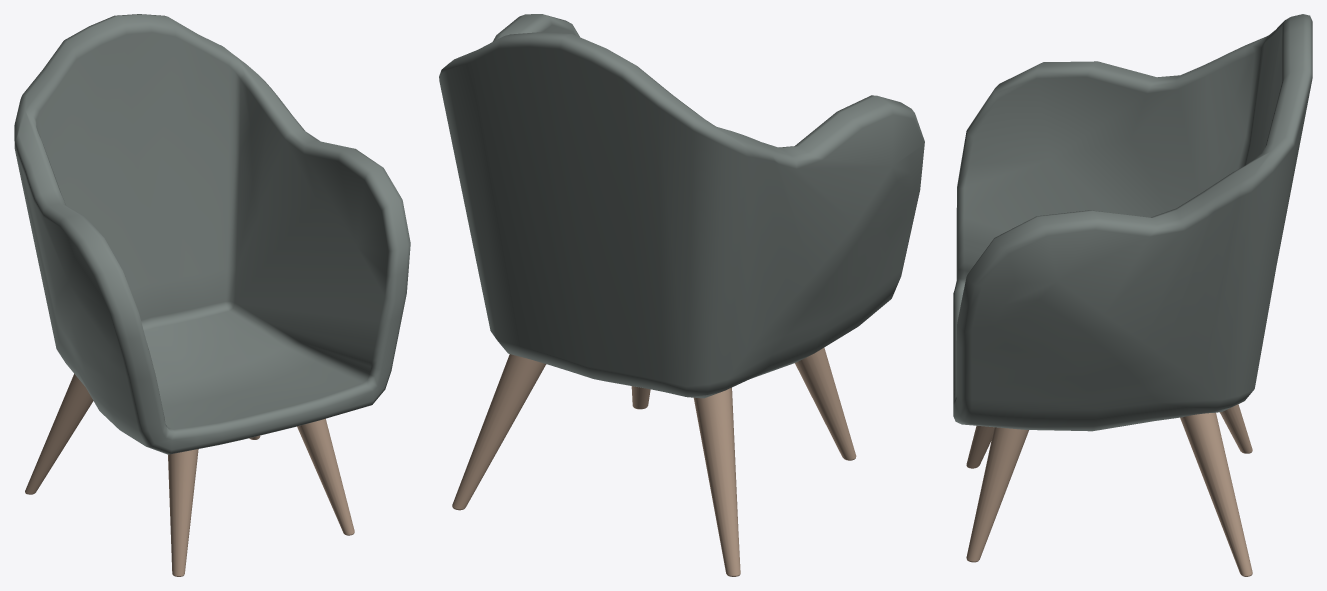
The model's file is Chaise_Model.fbx.
3 renders of one model, left to right at view 1: azimuth 30°, elevation 25°; view 2: azimuth 150°, elevation 25°; view 3: azimuth 270°, elevation 25°, orthographic. The views are drawn at different scales.
Visible parts, largest first — view 1: Chaise; view 2: Chaise; view 3: Chaise.
Boxes of the visible parts, bbox=[...] form: Chaise: bbox=[14, 14, 410, 576]; Chaise: bbox=[439, 14, 924, 576]; Chaise: bbox=[953, 14, 1312, 576].
Bounding box in the file's own units: 0.4764 × 0.6215 × 0.417.
